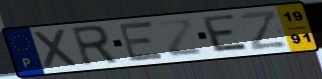E: (117, 20, 166, 64), (201, 13, 252, 54)
R: (68, 24, 121, 69)
X: (30, 27, 82, 71)
Z: (237, 9, 290, 53), (156, 19, 205, 59)
